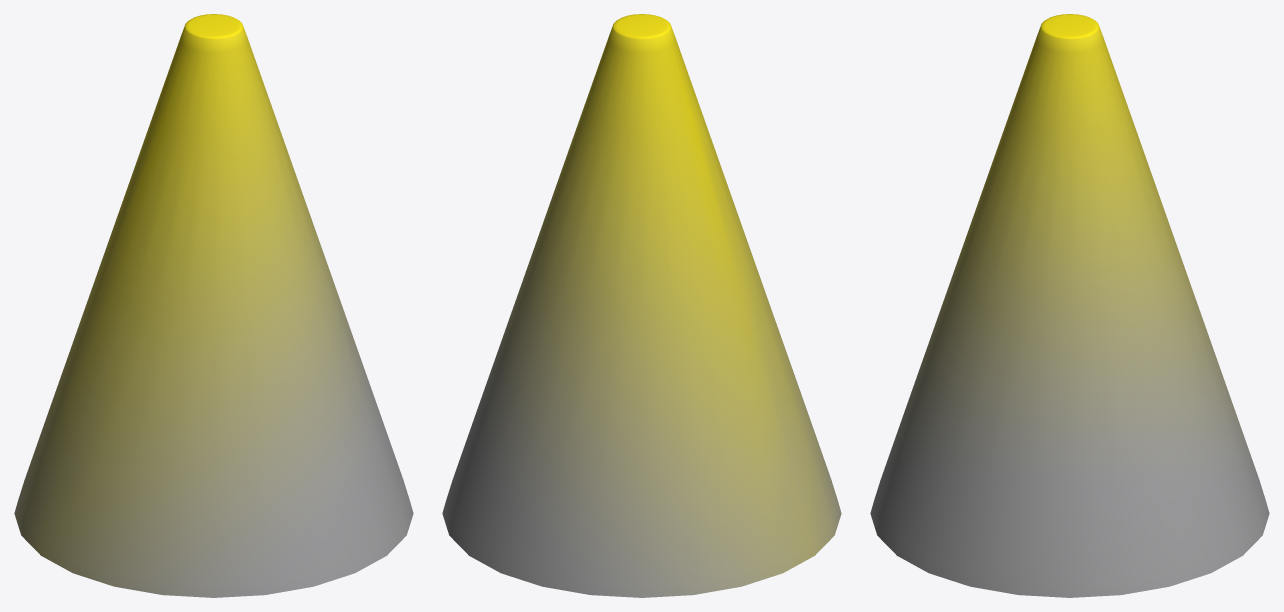
File: sang.fbx
3 renders of one model, left to right at view 1: azimuth 30°, elevation 25°; view 2: azimuth 150°, elevation 25°; view 3: azimuth 270°, elevation 25°, orthographic.
Parts seen in each view (by area): view 1: Cone; view 2: Cone; view 3: Cone.
Boxes of the visible parts, x1,y1,x2,y2 form: Cone: (14,14,413,597); Cone: (442,14,841,597); Cone: (870,14,1269,597).
Bounding box in the file's own units: 257 × 347 × 257.
Materials: 1 (1 with a texture image).
